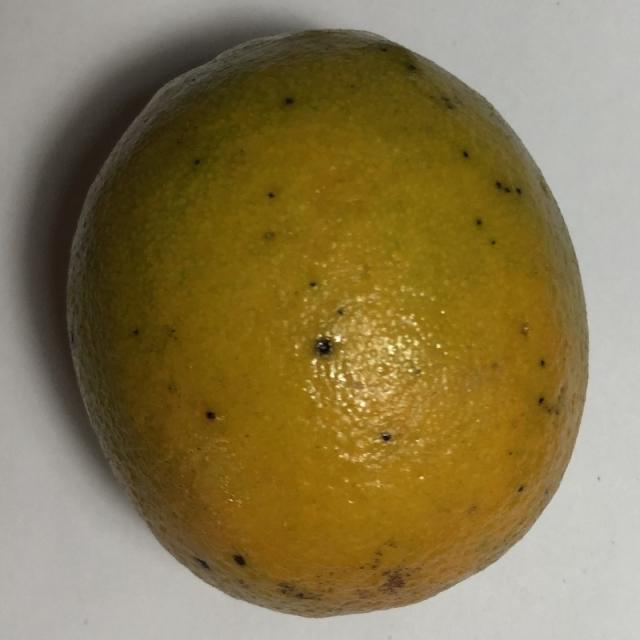blackspot: (36, 18, 598, 623)
